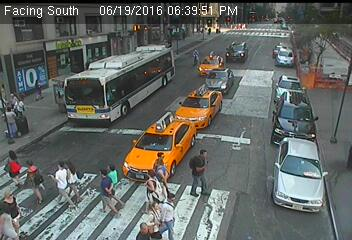neg: (147, 8, 169, 37), (250, 20, 270, 47), (143, 96, 163, 122), (216, 53, 234, 77), (201, 12, 218, 34), (48, 13, 65, 35), (328, 166, 343, 186), (49, 46, 64, 66), (100, 74, 115, 93), (276, 130, 291, 149), (99, 16, 113, 36), (189, 48, 203, 67), (124, 51, 138, 70), (290, 179, 304, 198), (298, 36, 312, 54), (283, 85, 295, 100), (242, 163, 254, 178), (306, 104, 316, 118), (247, 119, 252, 125)
pos: (11, 156, 51, 210), (180, 146, 217, 195), (142, 151, 177, 198), (53, 160, 87, 205), (89, 171, 121, 213), (46, 161, 76, 201), (154, 194, 184, 233), (98, 164, 125, 200), (145, 200, 165, 227), (28, 78, 44, 100), (10, 92, 24, 110), (5, 90, 17, 107), (138, 220, 149, 234)
